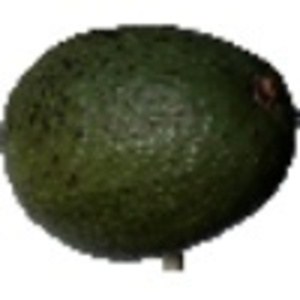abacate: (2, 23, 299, 258)
